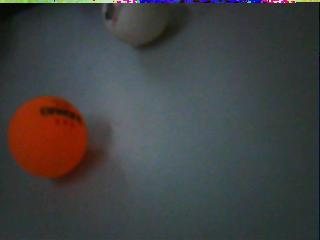oball: (9, 95, 85, 176)
